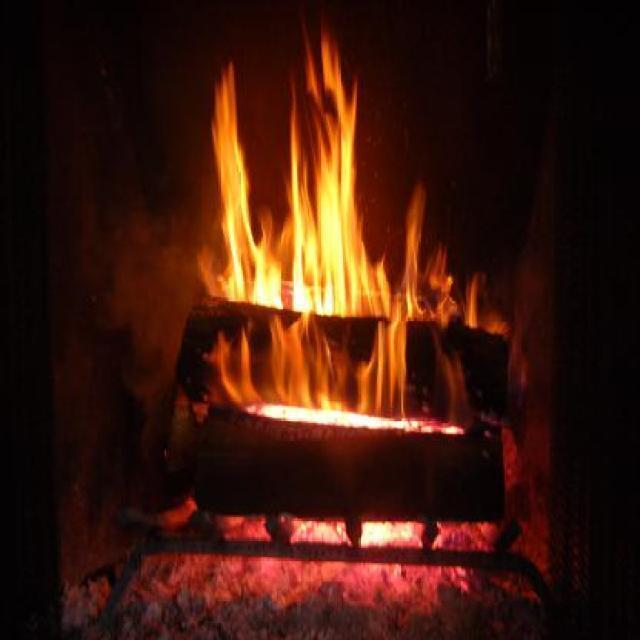Fire: (206, 25, 488, 424)
